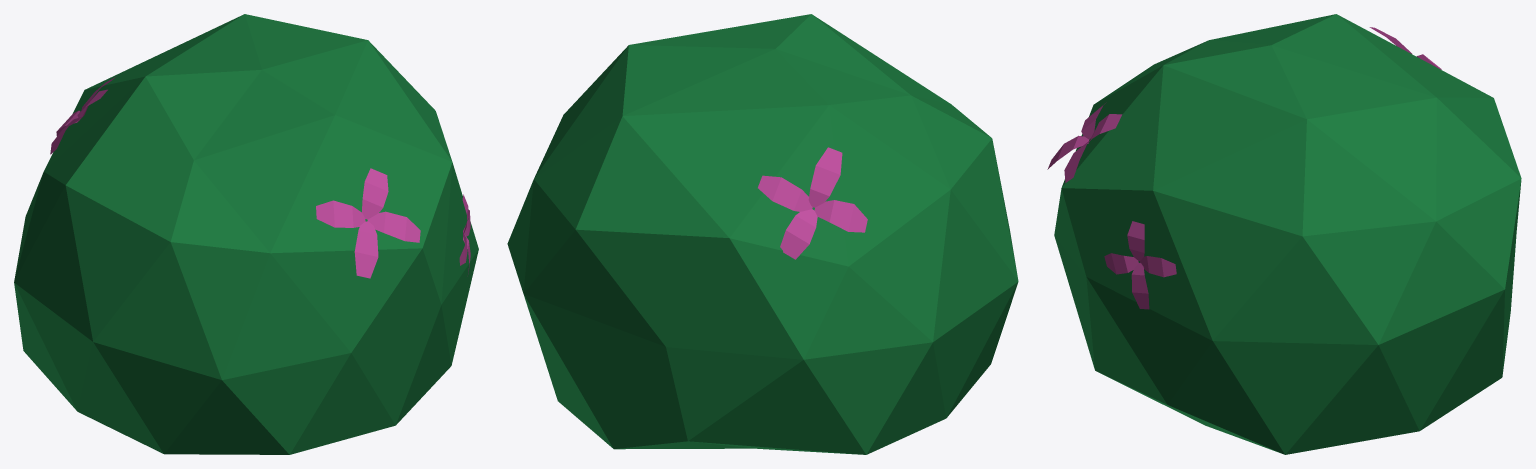
Rendered from BushWithFlowers.fbx.
3 renders of one model, left to right at view 1: azimuth 30°, elevation 25°; view 2: azimuth 150°, elevation 25°; view 3: azimuth 270°, elevation 25°, orthographic. The views are drawn at different scales.
Visible parts, largest first — view 1: Icosphere; view 2: Icosphere; view 3: Icosphere.
Part boxes in pixels (x1,y1,x2,y2): Icosphere: [14, 14, 478, 454]; Icosphere: [507, 14, 1018, 454]; Icosphere: [1047, 14, 1521, 454].
Size of the model in its own units: 197 by 196 by 155.
